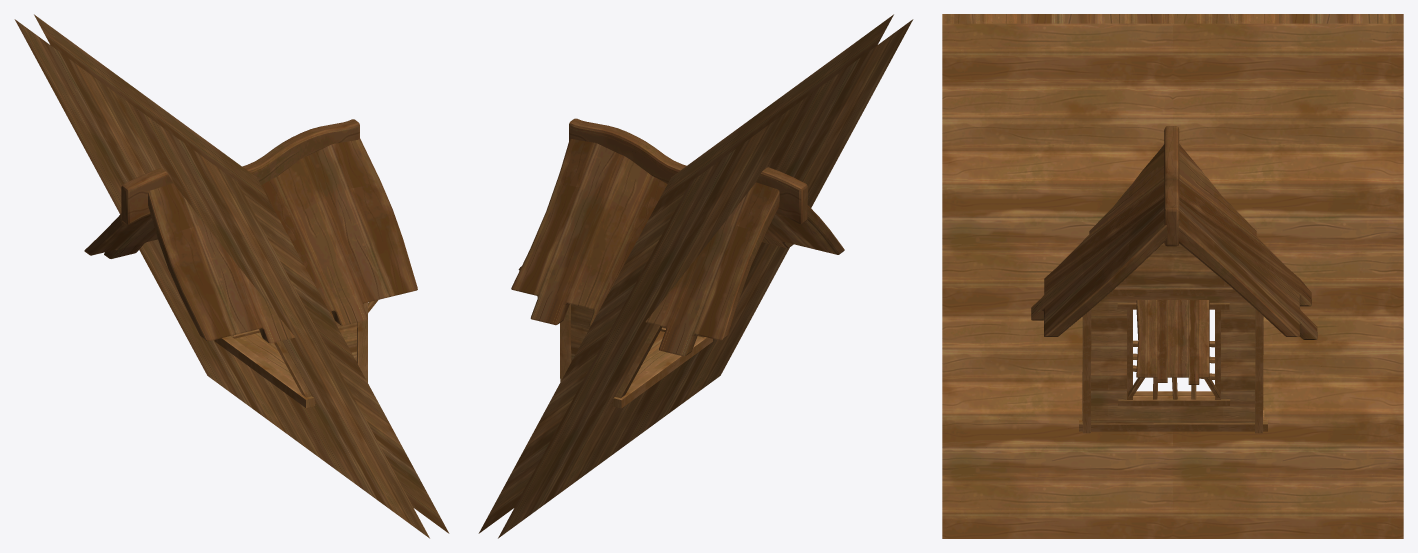
Rendered from SM_Window_Roof_01.gltf.
The picture shows the model from 3 angles, left to right: view 1: azimuth 30°, elevation 25°; view 2: azimuth 150°, elevation 25°; view 3: azimuth 270°, elevation 25°; orthographic projection. The views are drawn at different scales.
Parts seen in each view (by area): view 1: SM_Window_Roof_01; view 2: SM_Window_Roof_01; view 3: SM_Window_Roof_01.
Part boxes in pixels (x1,y1,x2,y2): SM_Window_Roof_01: (14,14,449,538); SM_Window_Roof_01: (478,14,913,538); SM_Window_Roof_01: (942,14,1403,538).
Size of what is drawn, in the model's own units: 2.83 by 4 by 4.
2 materials, 2 textured.
